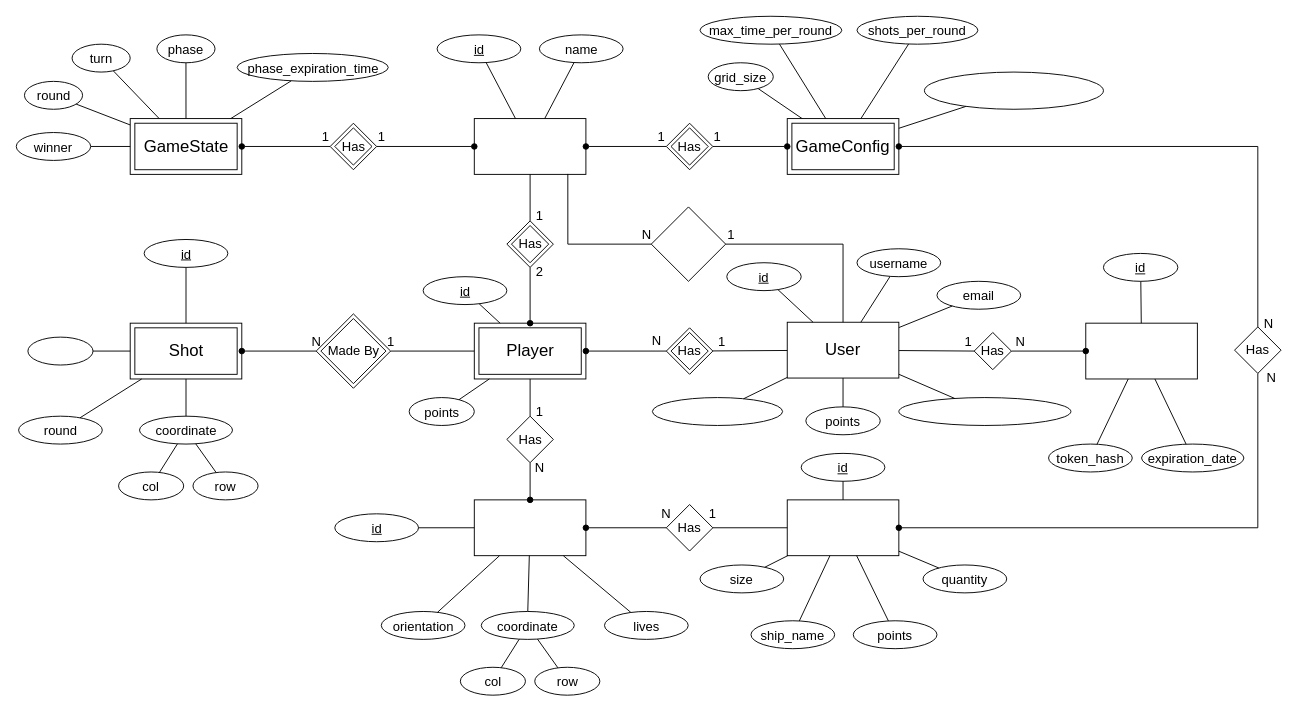
Image size: 1297x711. Some labels were removed from this diagram. Here are the shapes that lost their labels. From the top down, the centre of each, then its label:
point (1013, 90): max_time_for_layout_phase
point (529, 146): Game
point (688, 243): Created By
point (60, 350): result
point (1141, 350): RefreshToken
point (717, 411): password_hash
point (984, 411): number_of_games_played
point (529, 527): Ship
point (842, 527): ShipType
